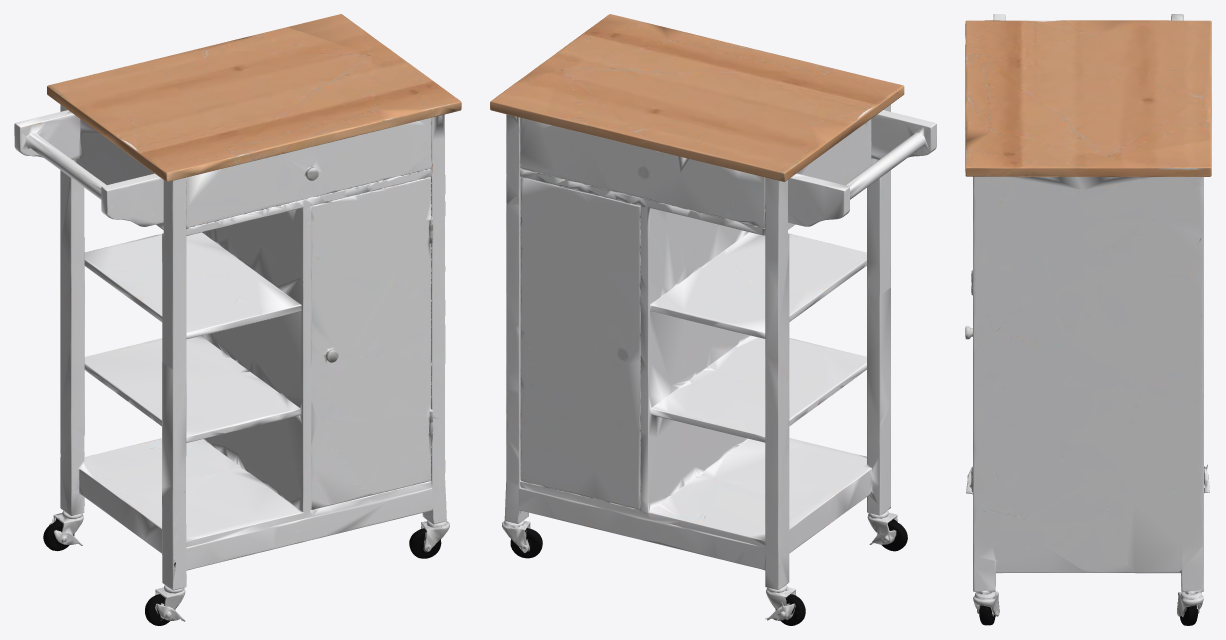
Rendered from kuecheninsel-01.glb.
3 renders of one model, left to right at view 1: azimuth 30°, elevation 25°; view 2: azimuth 150°, elevation 25°; view 3: azimuth 270°, elevation 25°, orthographic. The views are drawn at different scales.
Bounding box in the file's own units: 1.48 × 1.9 × 0.9042.
Materials: 1 (1 with a texture image).
